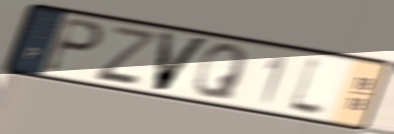1: (260, 56, 289, 106)
L: (283, 52, 331, 122)
P: (43, 16, 107, 76)
Q: (190, 42, 250, 103)
V: (152, 29, 213, 94)
Z: (92, 22, 157, 86)
